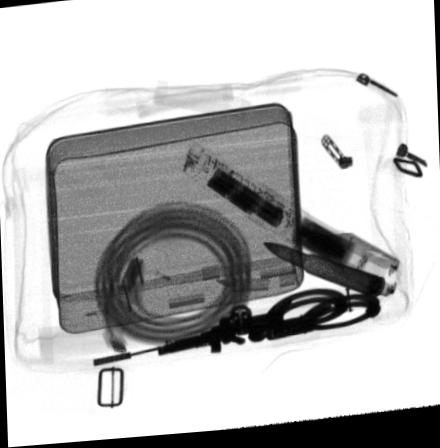Baton: (173, 139, 401, 305)
Bullet: (262, 246, 386, 303)
Gun: (92, 316, 266, 369)
HandCuffs: (230, 294, 382, 346)
